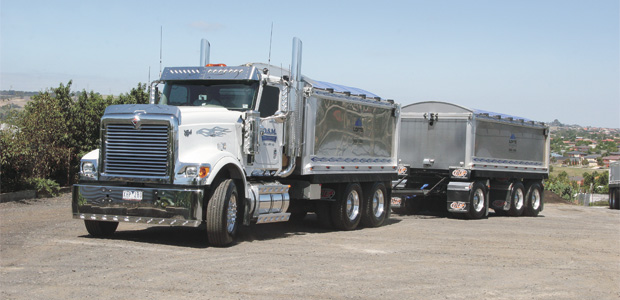truck: (68, 58, 549, 249)
